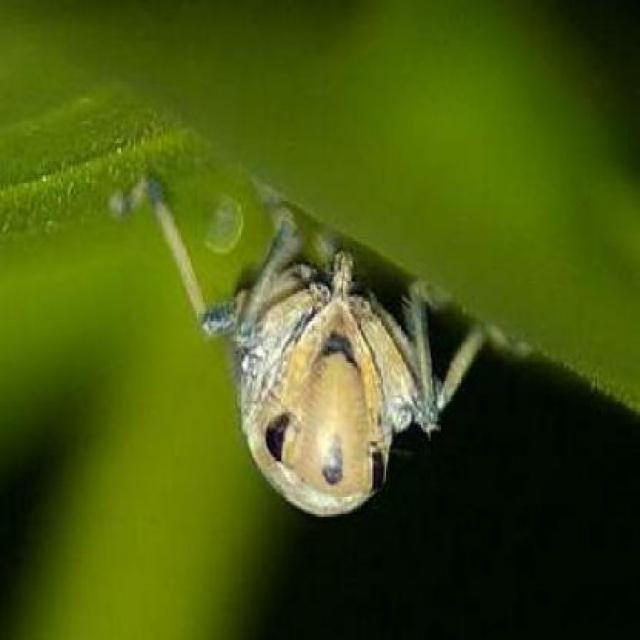green-leafhopper: (220, 178, 442, 518)
